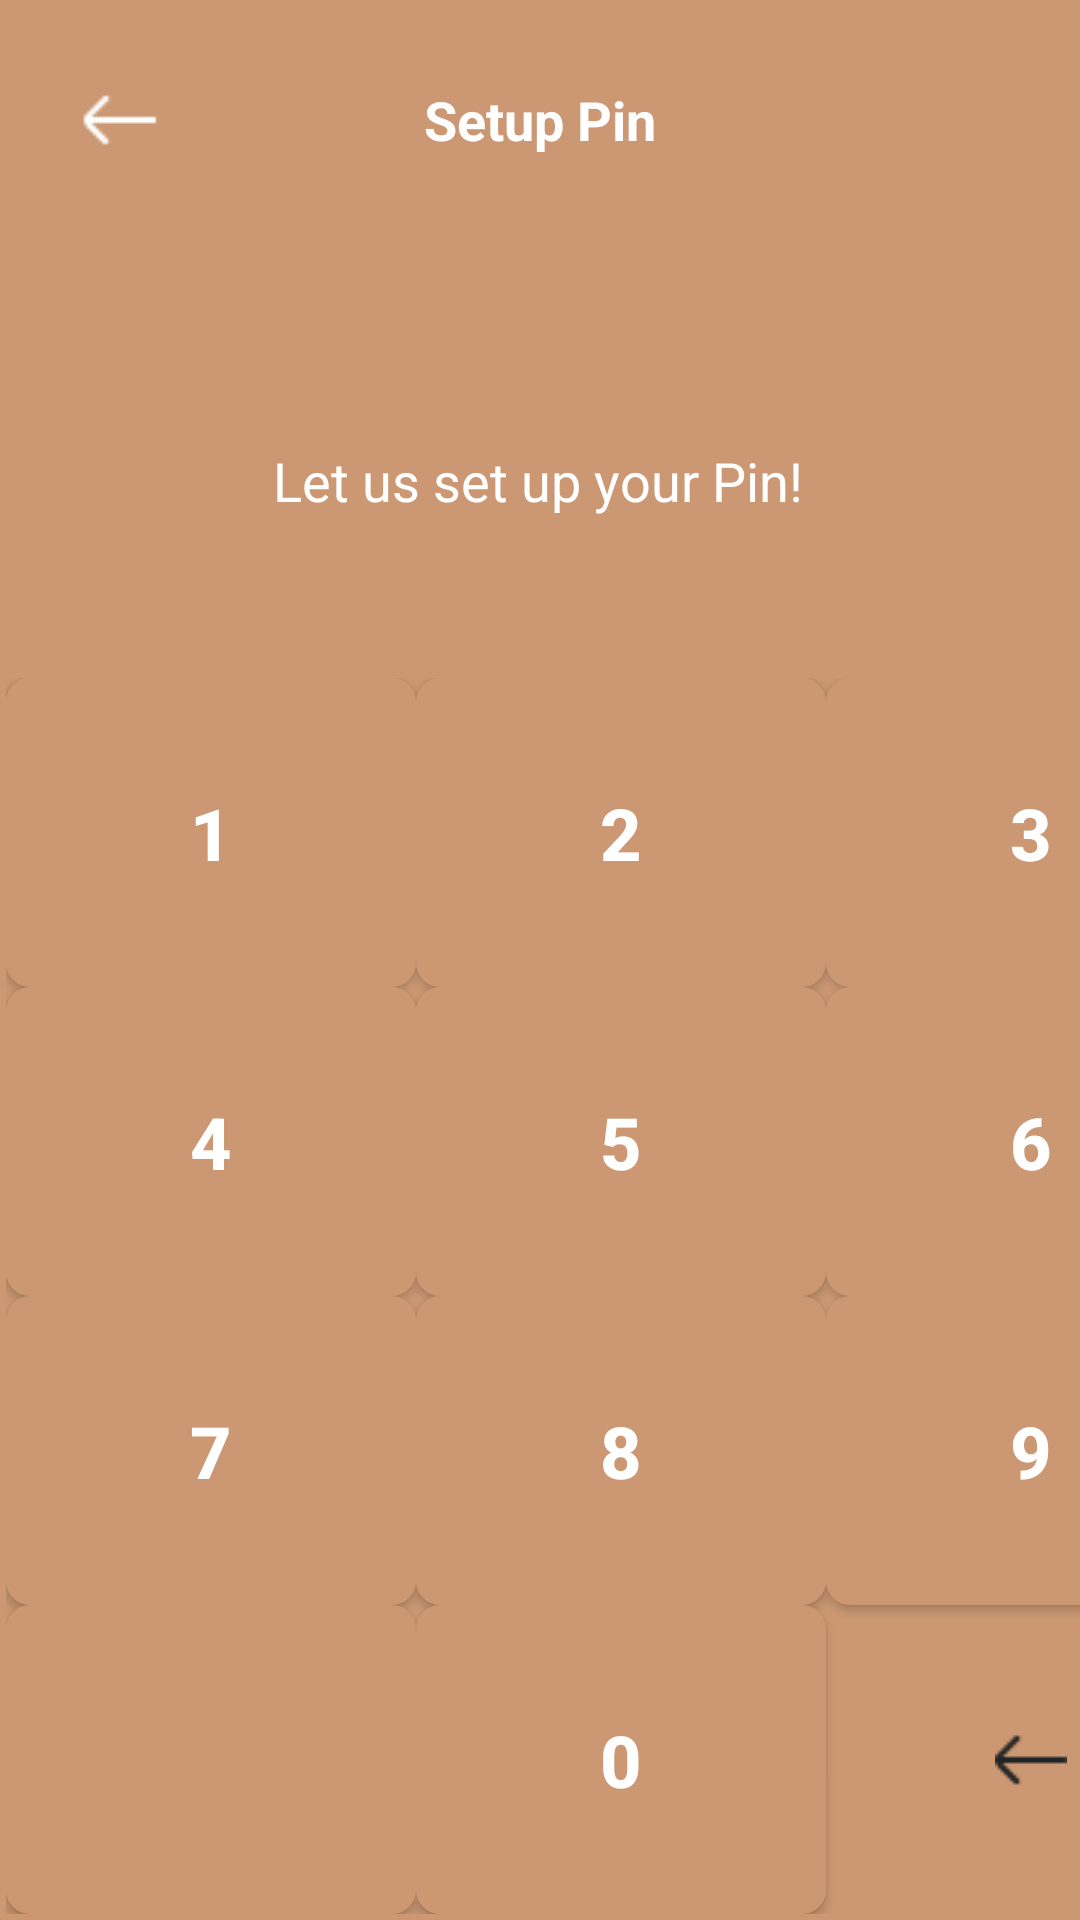

Where to tap for icons on this 1080x1920 app screen, as (x,y):
arrow: (120,120)
